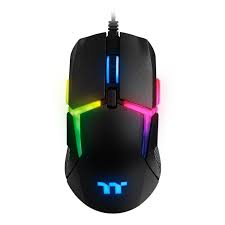mouse: (55, 31, 177, 213)
